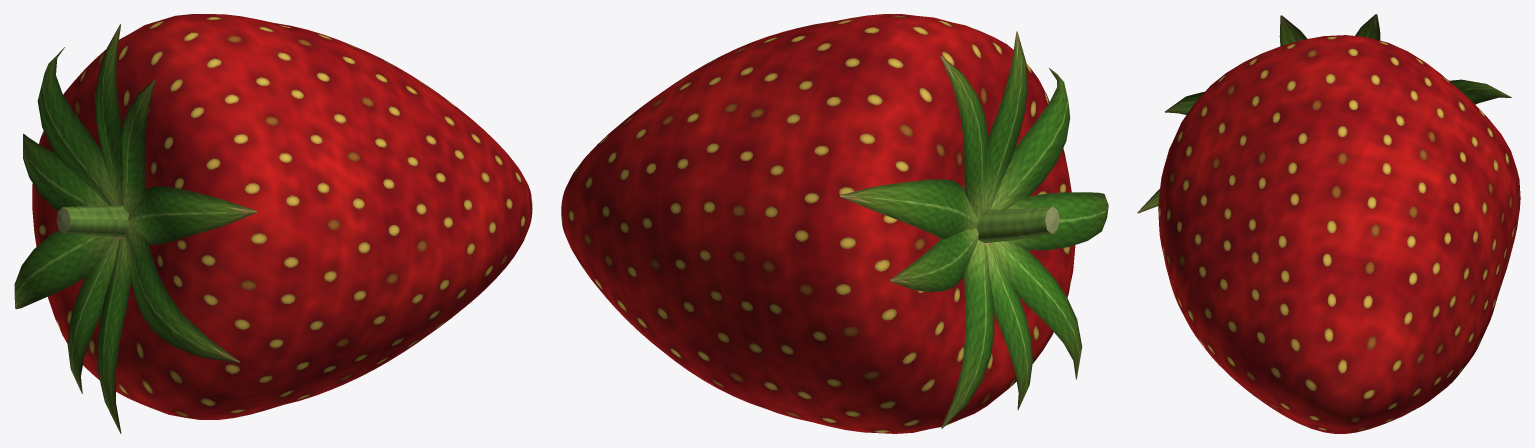
3 renders of one model, left to right at view 1: azimuth 30°, elevation 25°; view 2: azimuth 150°, elevation 25°; view 3: azimuth 270°, elevation 25°, orthographic. The views are drawn at different scales.
Visible parts, largest first — view 1: Asset; view 2: Asset; view 3: Asset.
Part boxes in pixels (x1,y1,x2,y2): Asset: (14, 14, 532, 433); Asset: (561, 14, 1108, 433); Asset: (1137, 14, 1520, 433).
Size of the model in its own units: 0.0333 by 0.0249 by 0.0269.
2 materials, 2 textured.
